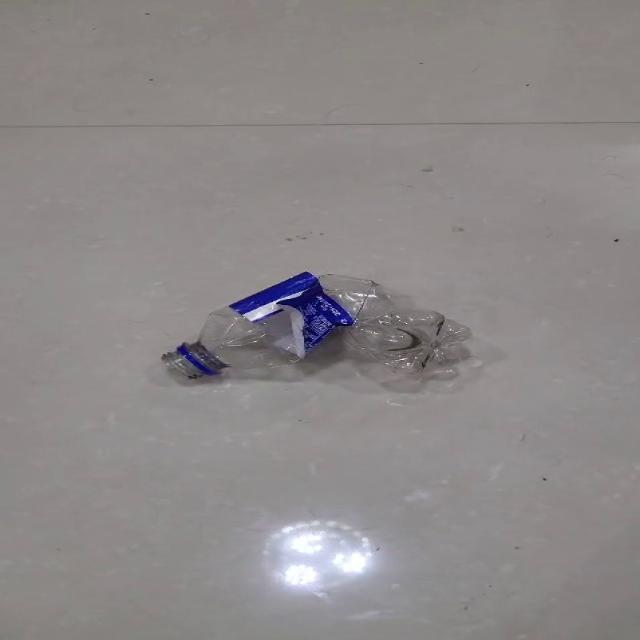plastic: (159, 270, 356, 380)
